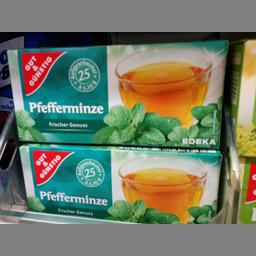tea: (6, 38, 230, 148), (18, 140, 220, 220)
